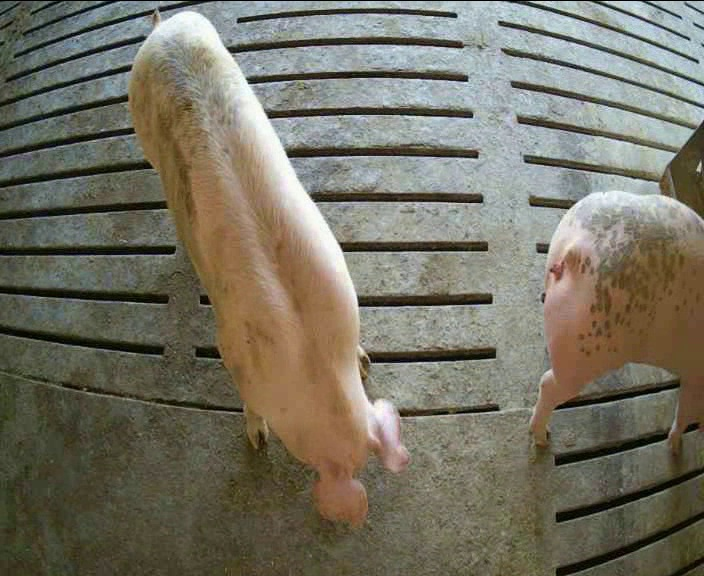pig: (130, 9, 409, 525), (530, 191, 703, 453)
